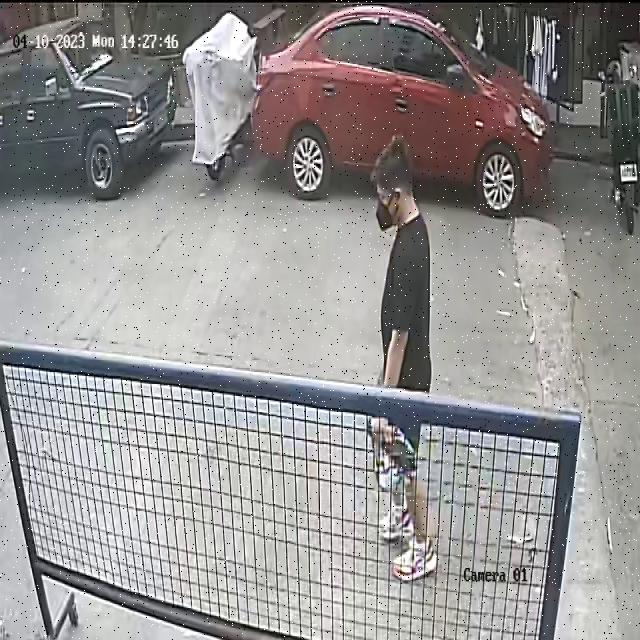garbage_dumping: (362, 418, 418, 497)
